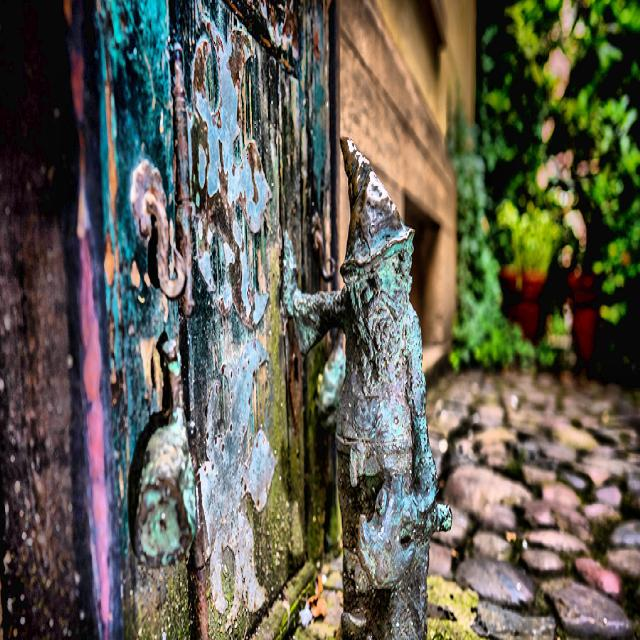Rzeznik: (282, 140, 451, 639)
